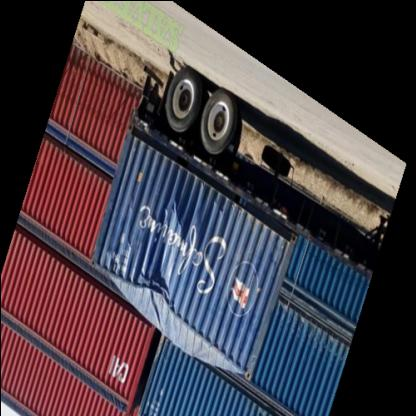Damage: (119, 181, 246, 368)
